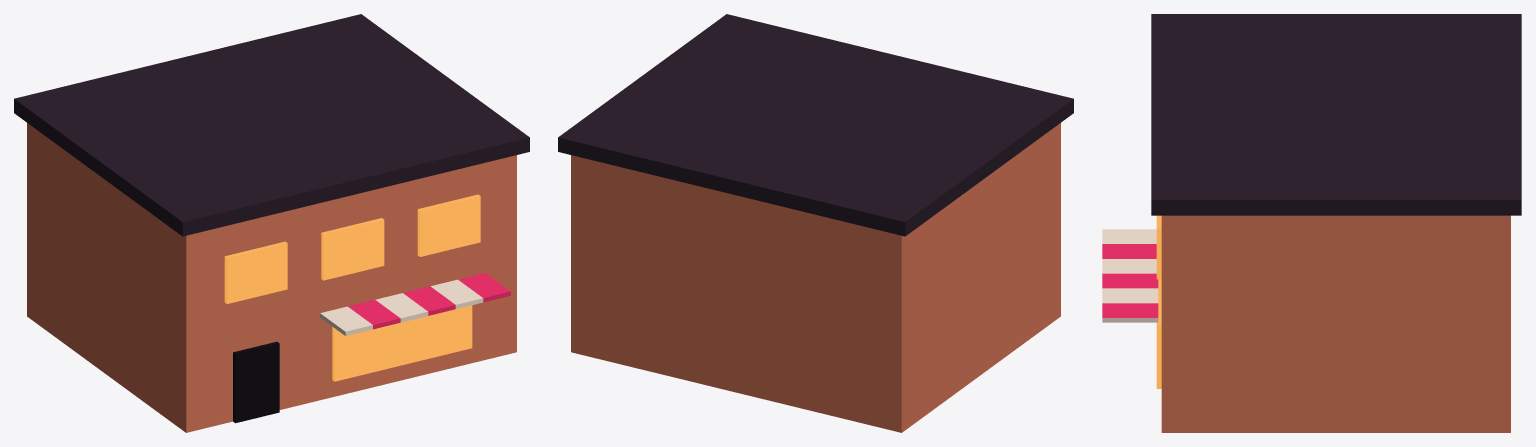
The model's file is test-building.glb.
3 views of the same model, side by side, from view 1: azimuth 30°, elevation 25°; view 2: azimuth 150°, elevation 25°; view 3: azimuth 270°, elevation 25° (orthographic). The views are drawn at different scales.
Parts seen in each view (by area): view 1: Body, RoofSlab, UpperWindow (×3), ShopWindow, Awning, Door; view 2: Body, RoofSlab; view 3: Body, RoofSlab, Awning, ShopWindow.
Part boxes in pixels (x1,y1,x2,y2): Body: (27,123,516,432); RoofSlab: (14,14,529,236); UpperWindow (×3): (224,194,480,303); ShopWindow: (332,305,472,381); Awning: (320,273,510,335); Door: (233,341,279,423); Body: (571,123,1060,432); RoofSlab: (558,14,1073,236); Body: (1161,215,1510,432); RoofSlab: (1151,14,1521,215); Awning: (1102,229,1158,322); ShopWindow: (1156,279,1161,388).
Size of what is drawn, in the model's own units: 12.6 by 7.5 by 12.
